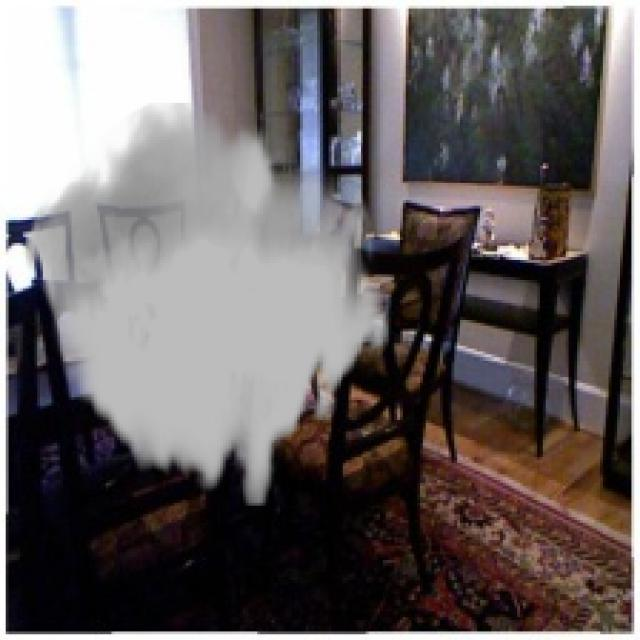Smoke: (22, 103, 392, 506)
